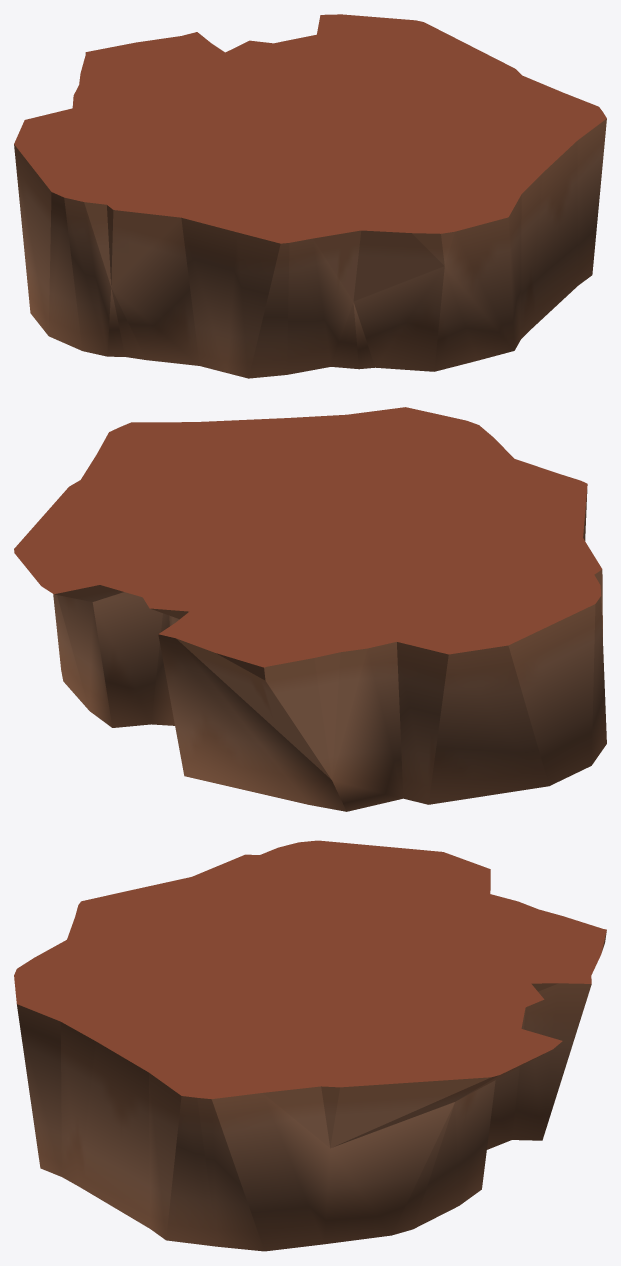
The model's file is SM_Env_Butte_05.fbx.
3 renders of one model, top to bottom at view 1: azimuth 30°, elevation 25°; view 2: azimuth 150°, elevation 25°; view 3: azimuth 270°, elevation 25°, orthographic. The views are drawn at different scales.
Parts seen in each view (by area): view 1: SM_Env_Butte_04.001; view 2: SM_Env_Butte_04.001; view 3: SM_Env_Butte_04.001.
Part boxes in pixels (bbox=[...]): SM_Env_Butte_04.001: bbox=[14, 14, 606, 378]; SM_Env_Butte_04.001: bbox=[14, 407, 606, 811]; SM_Env_Butte_04.001: bbox=[14, 840, 606, 1251].
Size of the model in its own units: 347 by 99.28 by 336.
